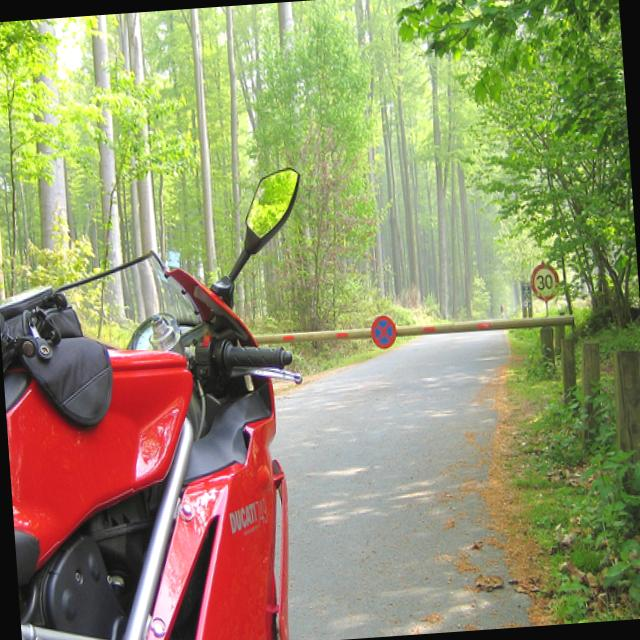Vehicle: (0, 166, 334, 640)
